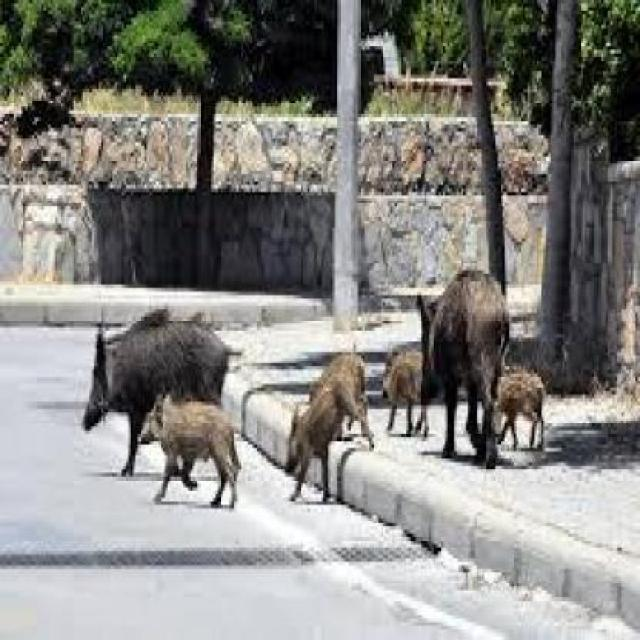wildboar: (77, 298, 249, 480), (413, 263, 513, 468), (280, 330, 382, 513), (132, 383, 252, 517), (485, 358, 553, 459), (379, 338, 443, 439)
